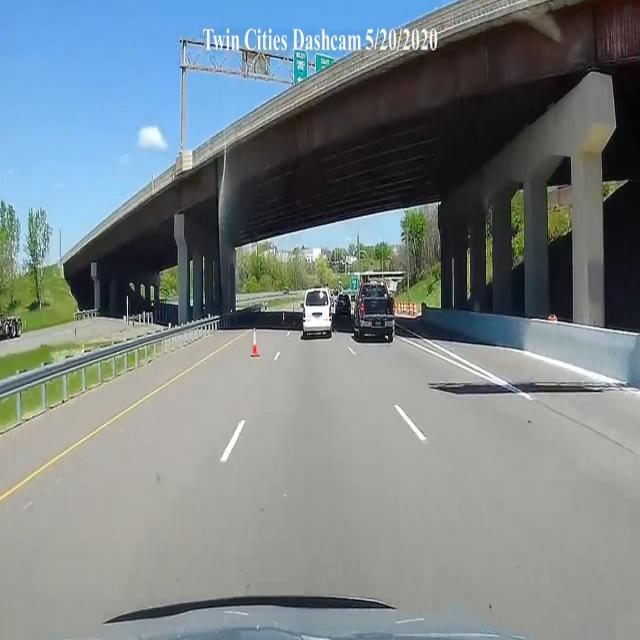Traffic Cone: (250, 333, 264, 358)
